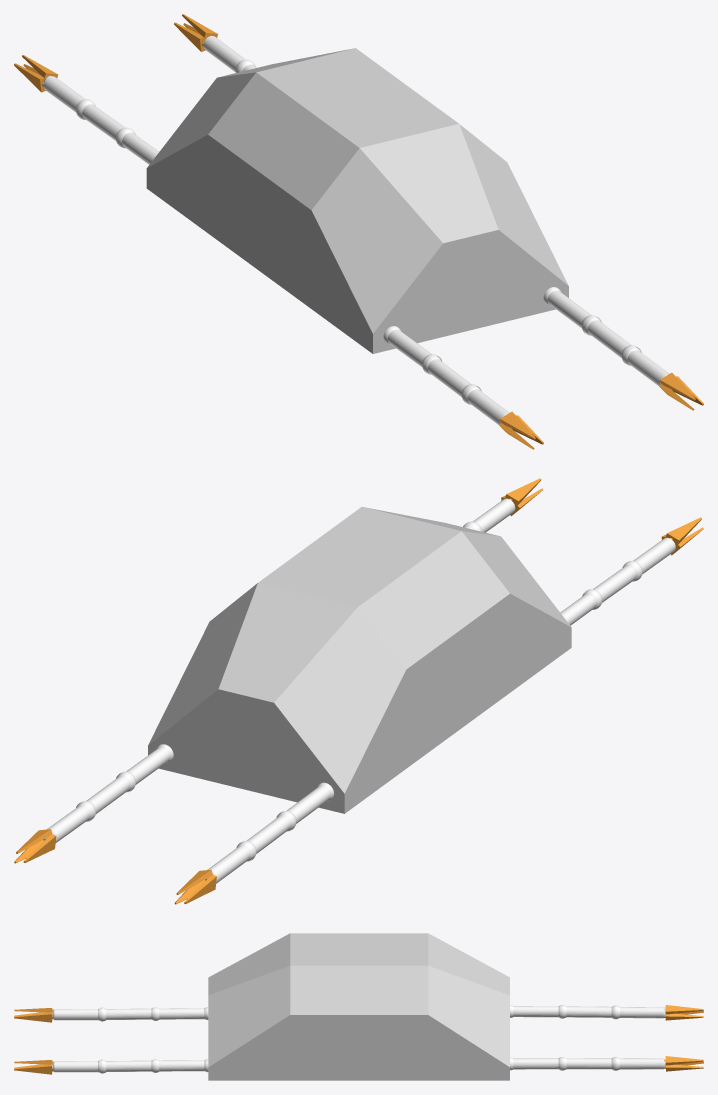
File: backpack.fbx
The picture shows the model from 3 angles, top to bottom: view 1: azimuth 30°, elevation 25°; view 2: azimuth 150°, elevation 25°; view 3: azimuth 270°, elevation 25°; orthographic projection. The views are drawn at different scales.
Visible parts, largest first — view 1: Backpack, ArmFR1, ArmFL1, ArmFL2, ArmFR2, ArmBR2, ArmFR3, ArmFL3, ArmBR1, ArmBL3, ArmBR3; view 2: Backpack, ArmBR1, ArmBR2, ArmBL1, ArmBL2, ArmFR2, ArmBR3, ArmBL3, ArmFR1, ArmFR3, ArmFL3; view 3: Backpack, ArmFL1, ArmFR1, ArmBL1, ArmBL2, ArmBR2, ArmBR1, ArmFR2, ArmFL2, ArmFR3, ArmFL3, ArmBL3 (+3 smaller).
Part boxes in pixels (<box>): Backpack: <box>146,48,568,353</box>; ArmFR1: <box>383,326,441,374</box>; ArmFL1: <box>543,287,601,335</box>; ArmFL2: <box>584,317,641,365</box>; ArmFR2: <box>424,356,481,404</box>; ArmBR2: <box>76,99,125,140</box>; ArmFR3: <box>464,386,509,425</box>; ArmFL3: <box>624,347,669,385</box>; ArmBR1: <box>116,127,158,164</box>; ArmBL3: <box>203,36,245,72</box>; ArmBR3: <box>43,76,85,112</box>; Backpack: <box>148,507,571,813</box>; ArmBR1: <box>276,782,334,831</box>; ArmBR2: <box>236,812,293,861</box>; ArmBL1: <box>116,744,173,792</box>; ArmBL2: <box>76,773,133,821</box>; ArmFR2: <box>593,561,642,602</box>; ArmBR3: <box>207,842,253,883</box>; ArmBL3: <box>46,802,93,842</box>; ArmFR1: <box>560,589,601,625</box>; ArmFR3: <box>633,537,675,574</box>; ArmFL3: <box>472,498,515,532</box>; Backpack: <box>208,933,509,1080</box>; ArmFL1: <box>153,1059,208,1072</box>; ArmFR1: <box>153,1007,208,1020</box>; ArmBL1: <box>510,1057,563,1070</box>; ArmBL2: <box>564,1057,617,1070</box>; ArmBR2: <box>564,1005,617,1019</box>; ArmBR1: <box>510,1005,564,1018</box>; ArmFR2: <box>100,1007,153,1021</box>; ArmFL2: <box>100,1059,153,1073</box>; ArmFR3: <box>52,1008,100,1020</box>; ArmFL3: <box>52,1060,100,1072</box>; ArmBL3: <box>617,1057,664,1070</box>.
Size of the model in its own units: 64.45 by 46.91 by 295.
